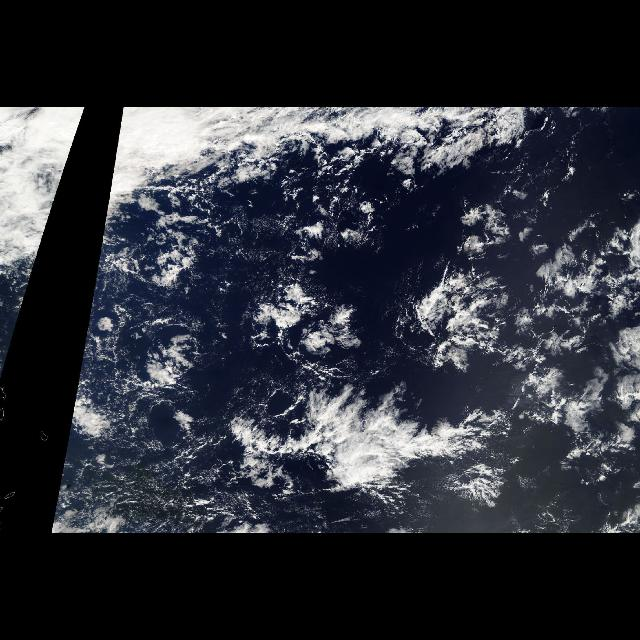Fish: (197, 377, 519, 491)
Flower: (96, 202, 640, 436)
Gravel: (82, 178, 278, 426)
Sugar: (64, 431, 264, 534)
